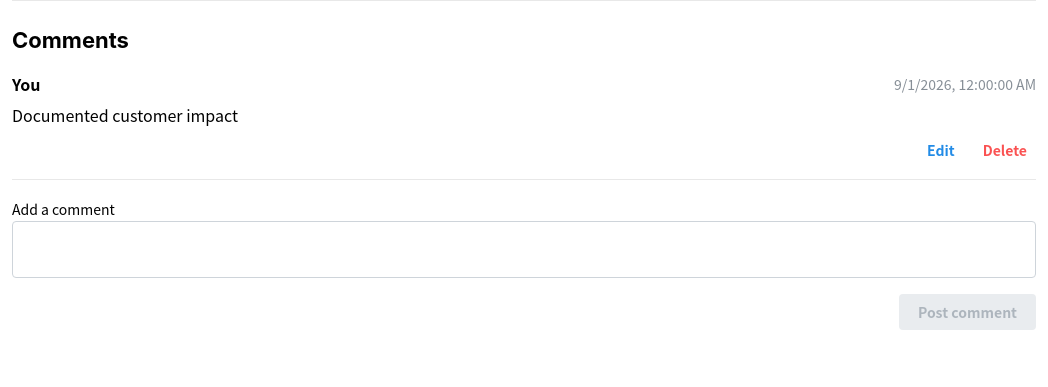
Test: confirms deletion and refreshes the discussion
This screenshot has width=1048, height=387.
Click the button "Delete": (1005, 150) [974, 137, 1036, 163]
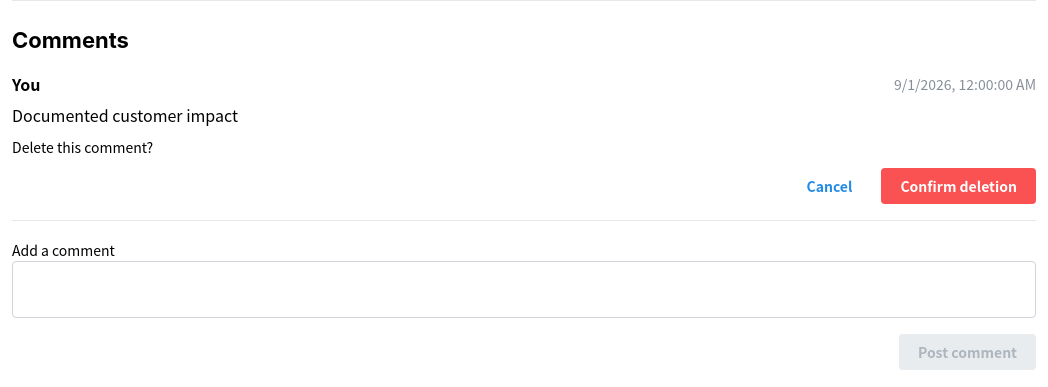
Expected: the text "Delete this comment?" is shown, [12, 137, 153, 157]
Click the button "Confirm deletion": (959, 186) [881, 168, 1036, 204]
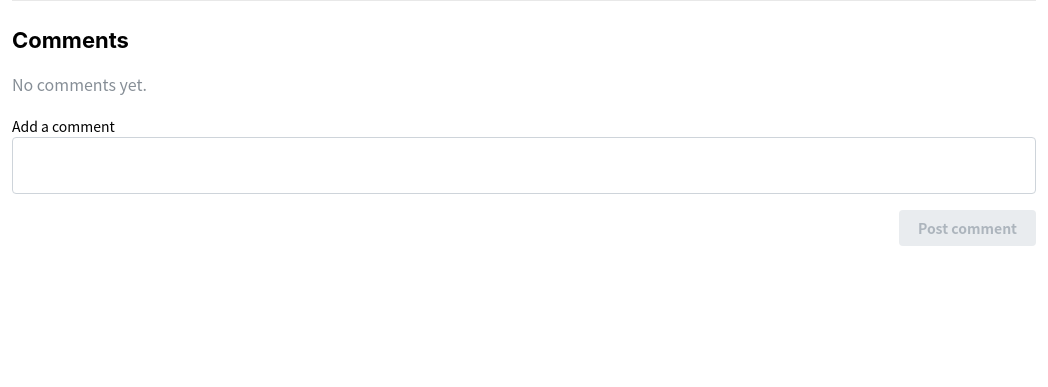
Expected: the text "No comments yet." is shown, [12, 72, 147, 96]
